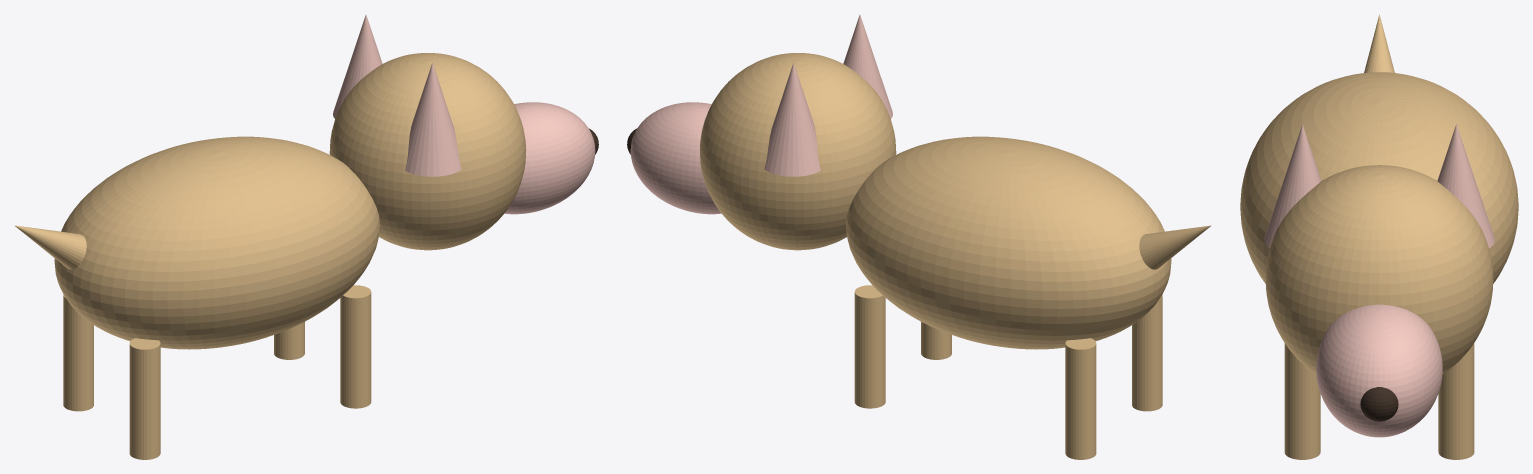
Rendered from dog_model.fbx.
The picture shows the model from 3 angles, left to right: view 1: azimuth 30°, elevation 25°; view 2: azimuth 150°, elevation 25°; view 3: azimuth 270°, elevation 25°; orthographic projection. The views are drawn at different scales.
Parts seen in each view (by area): view 1: Dog_Body, Dog_Head, Dog_Snout, Dog_Ear_R, Dog_Leg_BR, Dog_Leg_FR, Dog_Leg_BL, Dog_Ear_L, Dog_Tail, Dog_Leg_FL; view 2: Dog_Body, Dog_Head, Dog_Snout, Dog_Ear_L, Dog_Leg_BL, Dog_Leg_FL, Dog_Leg_BR, Dog_Ear_R, Dog_Tail, Dog_Leg_FR; view 3: Dog_Head, Dog_Body, Dog_Snout, Dog_Leg_FL, Dog_Leg_FR, Dog_Ear_L, Dog_Ear_R, Dog_Nose, Dog_Tail.
Part boxes in pixels (x1=…): Dog_Body: x1=54, y1=136, x2=379, y2=349; Dog_Head: x1=329, y1=53, x2=526, y2=250; Dog_Snout: x1=504, y1=102, x2=595, y2=214; Dog_Ear_R: x1=405, y1=63, x2=461, y2=176; Dog_Leg_BR: x1=129, y1=338, x2=160, y2=459; Dog_Leg_FR: x1=340, y1=285, x2=371, y2=408; Dog_Leg_BL: x1=63, y1=294, x2=93, y2=411; Dog_Ear_L: x1=333, y1=14, x2=382, y2=118; Dog_Tail: x1=14, y1=225, x2=86, y2=269; Dog_Leg_FL: x1=274, y1=322, x2=304, y2=359; Dog_Body: x1=846, y1=136, x2=1171, y2=349; Dog_Head: x1=699, y1=53, x2=896, y2=250; Dog_Snout: x1=630, y1=102, x2=721, y2=214; Dog_Ear_L: x1=764, y1=63, x2=820, y2=176; Dog_Leg_BL: x1=1065, y1=338, x2=1096, y2=459; Dog_Leg_FL: x1=854, y1=285, x2=885, y2=408; Dog_Leg_BR: x1=1132, y1=294, x2=1162, y2=411; Dog_Ear_R: x1=843, y1=14, x2=892, y2=118; Dog_Tail: x1=1139, y1=225, x2=1211, y2=269; Dog_Leg_FR: x1=921, y1=322, x2=951, y2=359; Dog_Head: x1=1265, y1=165, x2=1493, y2=374; Dog_Body: x1=1240, y1=72, x2=1518, y2=283; Dog_Snout: x1=1316, y1=304, x2=1442, y2=437; Dog_Leg_FL: x1=1438, y1=343, x2=1474, y2=459; Dog_Leg_FR: x1=1284, y1=343, x2=1320, y2=459; Dog_Ear_L: x1=1437, y1=124, x2=1494, y2=248; Dog_Ear_R: x1=1264, y1=124, x2=1321, y2=248; Dog_Nose: x1=1360, y1=387, x2=1398, y2=421; Dog_Tail: x1=1364, y1=14, x2=1394, y2=72.
Bounding box in the file's own units: 3.04 × 1.6 × 1.09.
